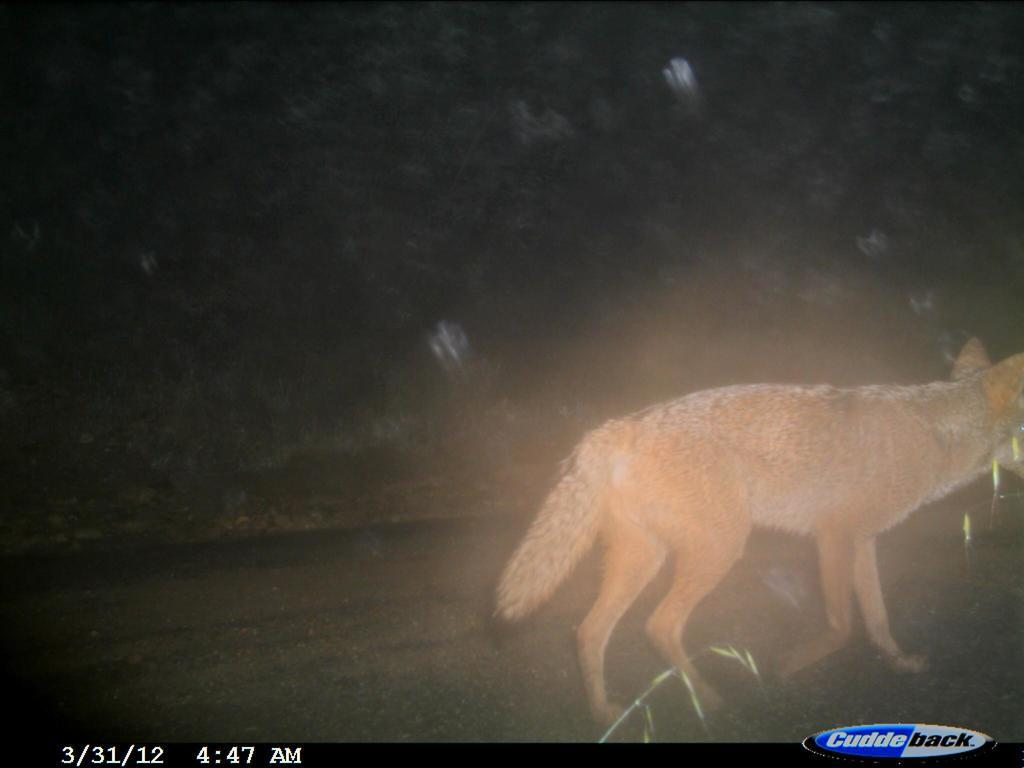coyote: (488, 332, 1014, 731)
